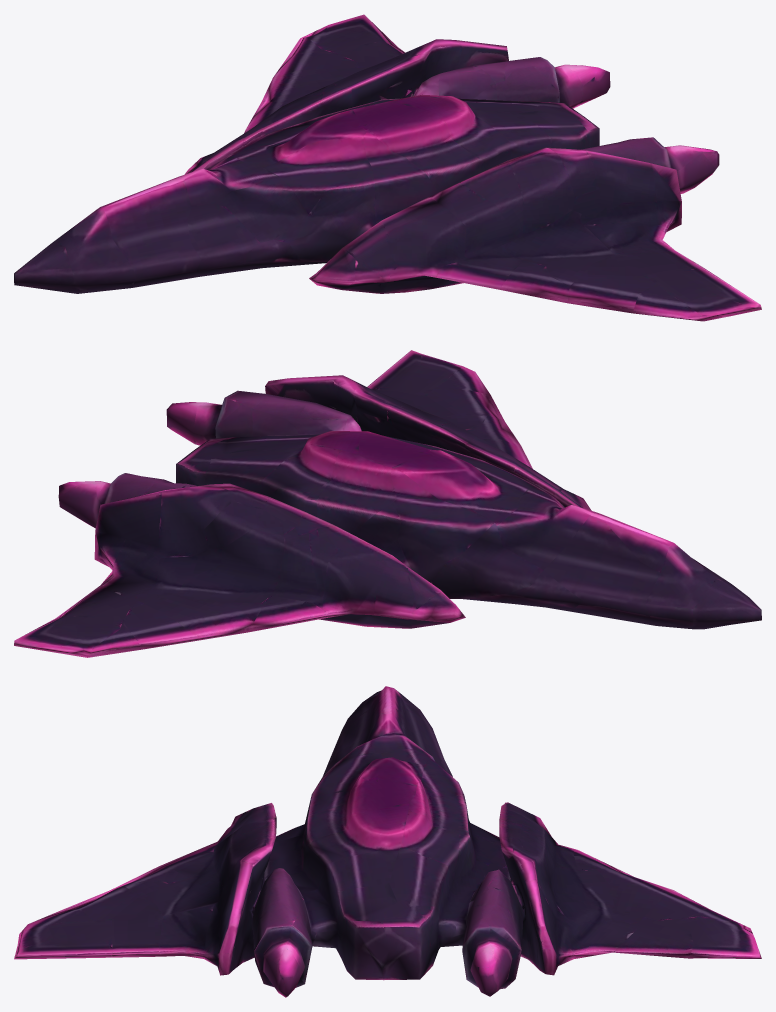
The model's file is shadow.glb.
3 renders of one model, top to bottom at view 1: azimuth 30°, elevation 25°; view 2: azimuth 150°, elevation 25°; view 3: azimuth 270°, elevation 25°, orthographic. The views are drawn at different scales.
Visible parts, largest first — view 1: mesh_node; view 2: mesh_node; view 3: mesh_node.
Boxes of the visible parts, x1,y1,x2,y2 form: mesh_node: (14, 14, 761, 321); mesh_node: (14, 350, 761, 657); mesh_node: (14, 686, 761, 997).
Size of the model in its own units: 1.78 by 0.3327 by 1.9.
Materials: 1 (1 with a texture image).
